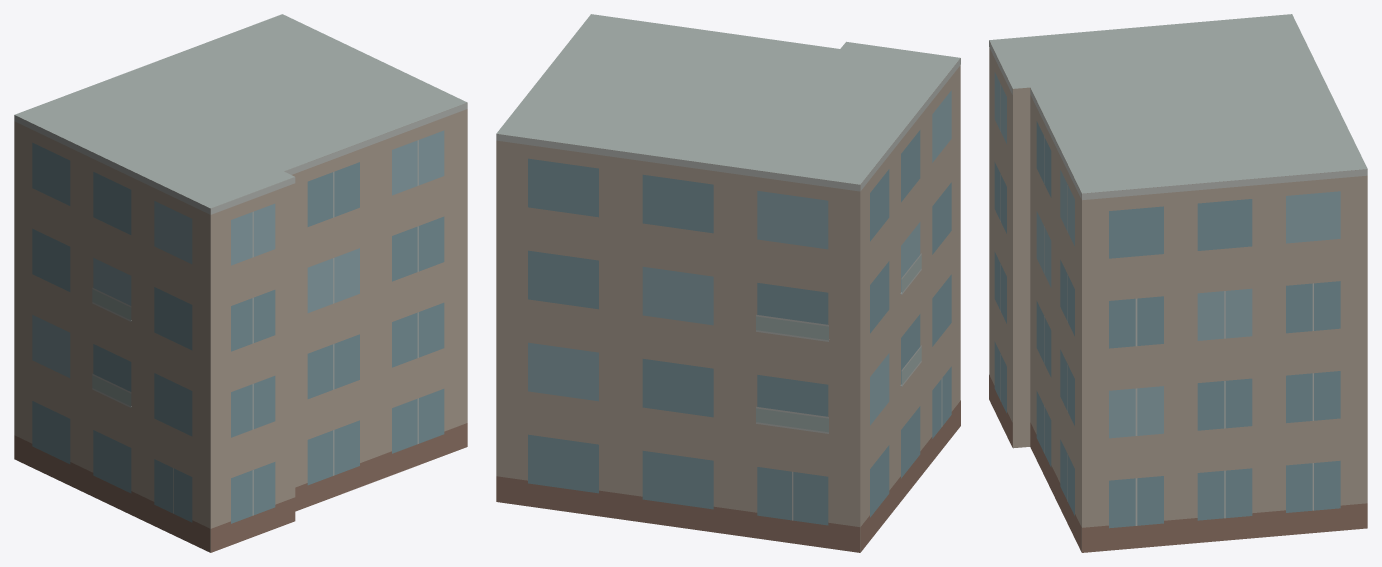
The model's file is survey-upis-33016144.glb.
3 views of the same model, side by side, from view 1: azimuth 30°, elevation 25°; view 2: azimuth 150°, elevation 25°; view 3: azimuth 270°, elevation 25° (orthographic). The views are drawn at different scales.
Visible parts, largest first — view 1: survey-upis-33016144.tmp; view 2: survey-upis-33016144.tmp; view 3: survey-upis-33016144.tmp.
Part boxes in pixels (x1,y1,x2,y2): survey-upis-33016144.tmp: (14,14,467,552); survey-upis-33016144.tmp: (496,14,960,552); survey-upis-33016144.tmp: (989,14,1367,552).
Bounding box in the file's own units: 14.16 × 13.2 × 12.62.
